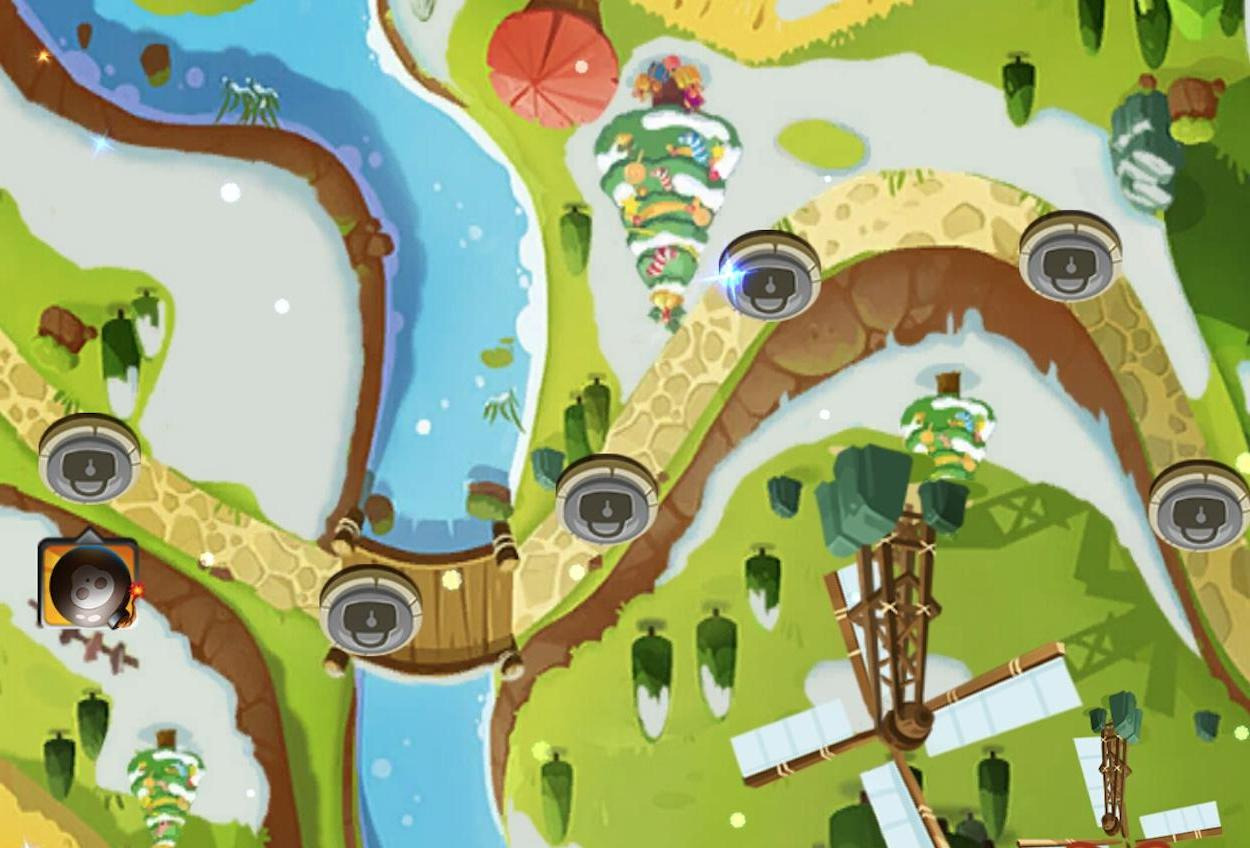ImgView: (1, 1, 1249, 847)
